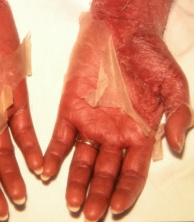SJS-TEN: (38, 0, 194, 222), (0, 0, 44, 222)
